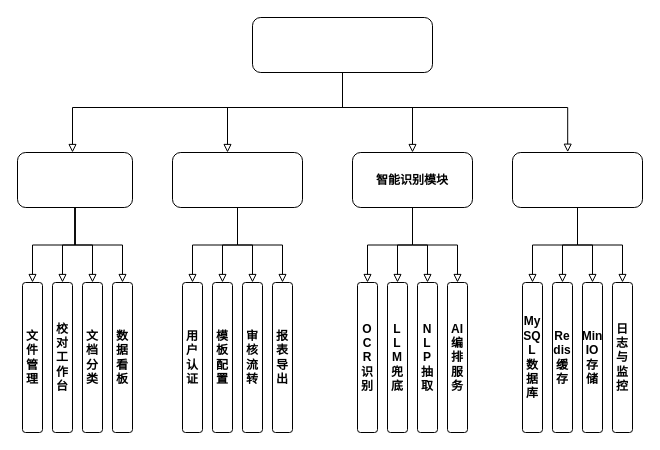
Some shapes in this 660 by 450 pixel diagram are drawn without their labels. The shapes that lost their labels are listed below. From the top down, each one's centre as x and y in pixels, then its label:
At (x=342, y=44): "智能文档处理系统".
At (x=74, y=180): "前端交互模块".
At (x=237, y=180): "后端业务模块".
At (x=577, y=180): "数据与基础设施模块".
